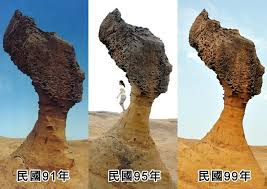yehliu: (3, 9, 88, 108), (97, 8, 178, 101), (186, 8, 267, 100)
